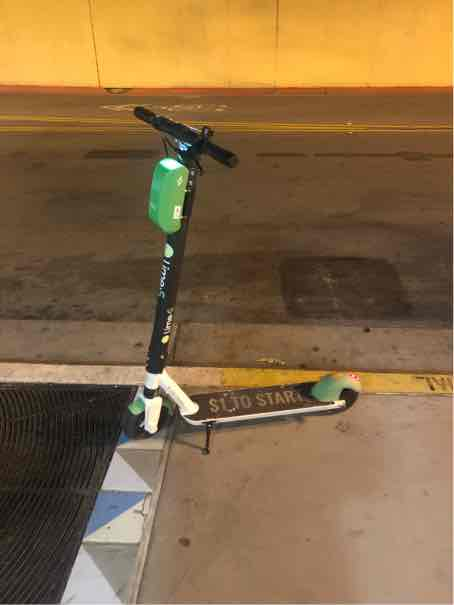scooter: (114, 94, 381, 463)
